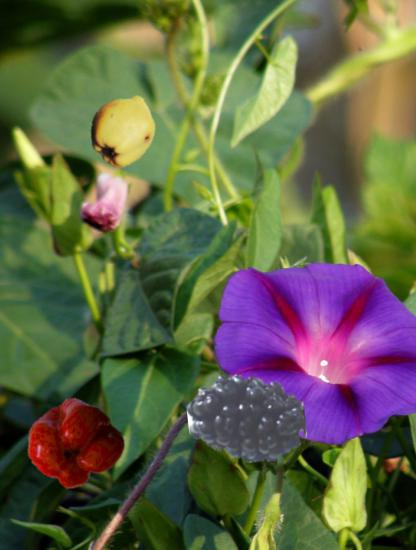Mulberry: (188, 360, 306, 478)
Pepper: (29, 399, 120, 490)
Quince: (87, 93, 161, 167)
